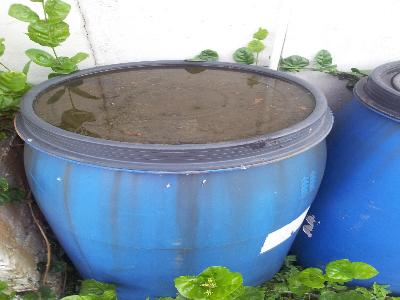bucket: (13, 138, 328, 299)
plate: (11, 56, 335, 172)
